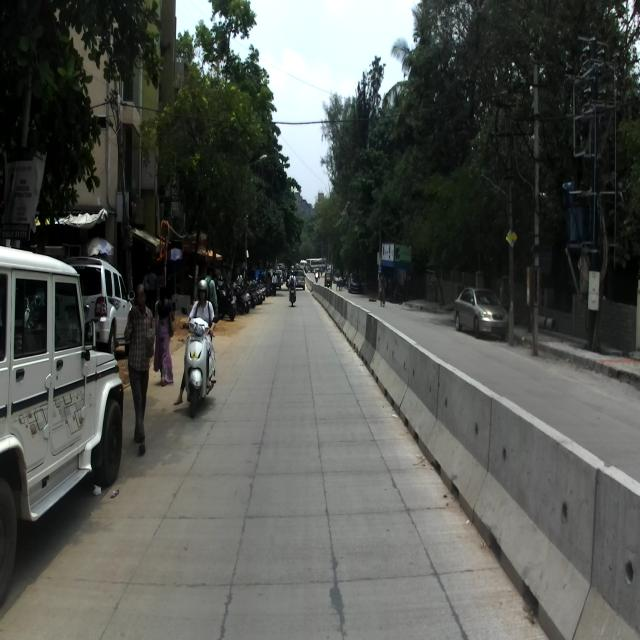car ahead at: (0, 245, 125, 576)
motorcycle ahead at: (183, 308, 220, 418)
person ahead at: (130, 277, 160, 464)
